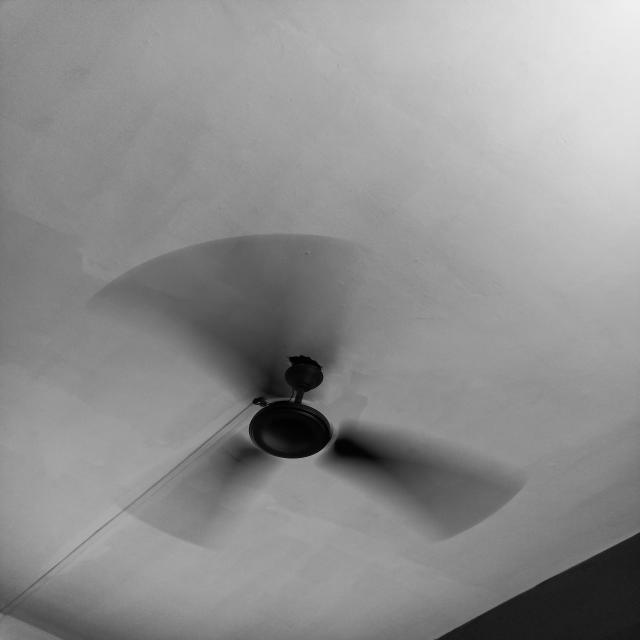fan: (78, 239, 532, 551)
light: (247, 353, 333, 459)
